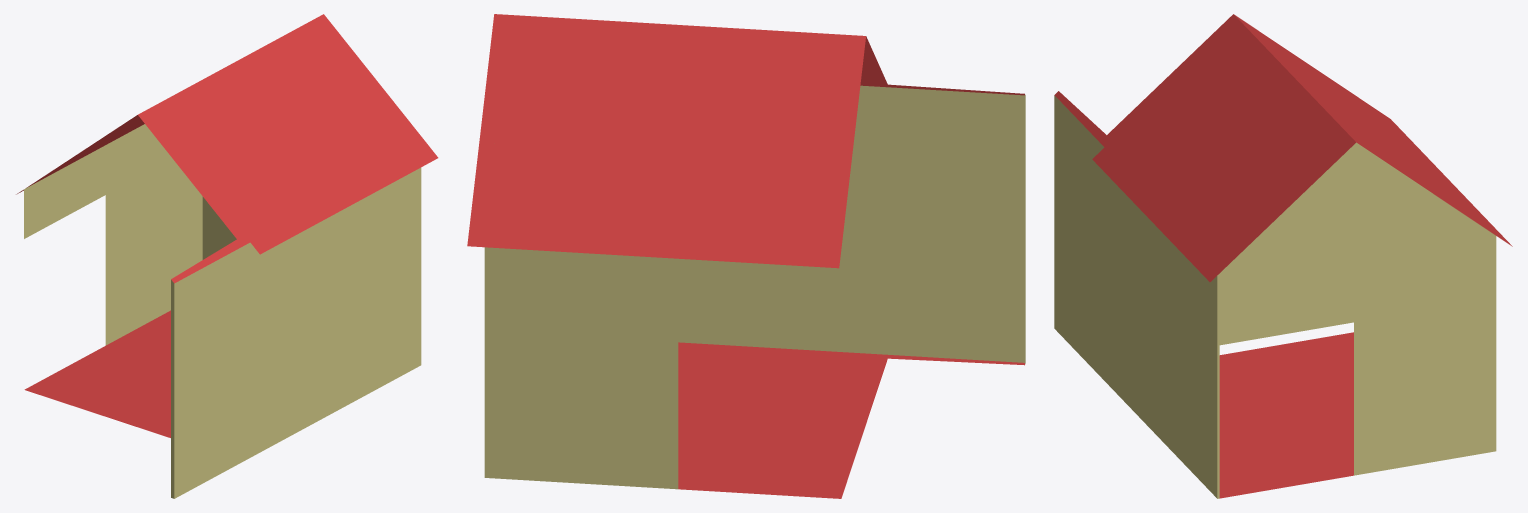
The picture shows the model from 3 angles, left to right: view 1: azimuth 30°, elevation 25°; view 2: azimuth 150°, elevation 25°; view 3: azimuth 270°, elevation 25°; orthographic projection. The views are drawn at different scales.
Size of the model in its own units: 15.93 by 17.14 by 13.95.
